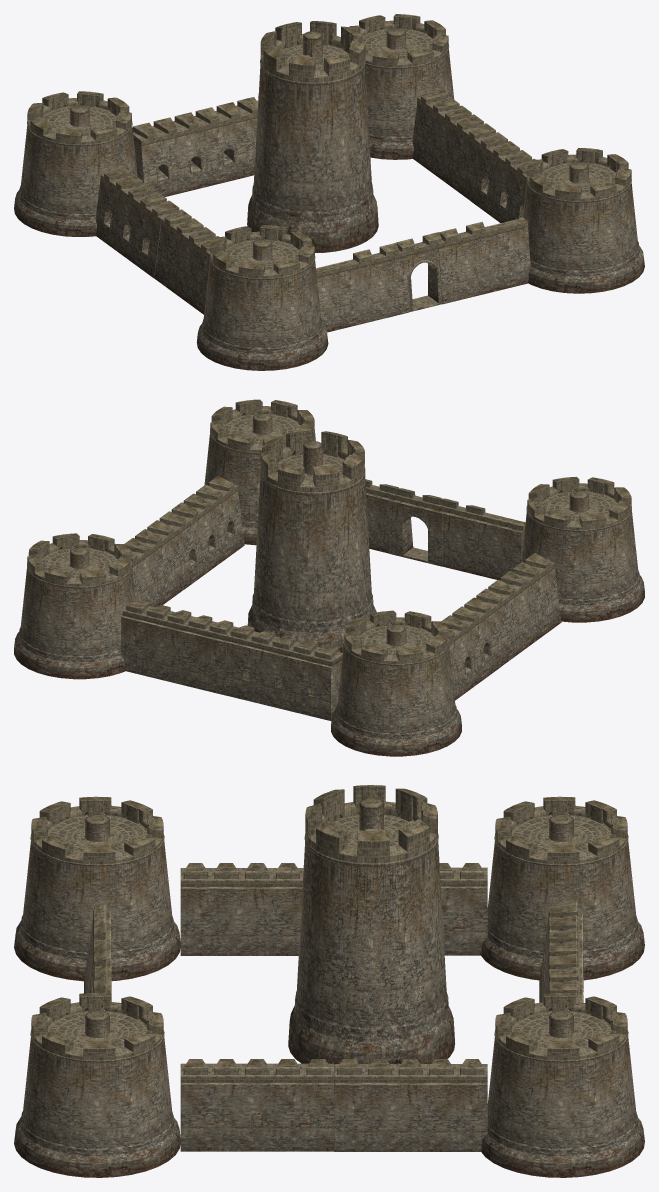
File: castle.glb
3 views of the same model, one above another, from view 1: azimuth 30°, elevation 25°; view 2: azimuth 150°, elevation 25°; view 3: azimuth 270°, elevation 25° (orthographic). The views are drawn at different scales.
Parts seen in each view (by area): view 1: modular_fort_01_tower_round.005, modular_fort_01_tower_round.001, modular_fort_01_tower_round.003, modular_fort_01_tower_round.002, modular_fort_01_tower_round.004, modular_fort_01_wall_thick_straight_02.003, modular_fort_01_wall_thick_straight_02.001, modular_fort_01_wall_thick_straight_01.001, modular_fort_01_wall_thick_straight_01.002, modular_fort_01_wall_thick_straight_02.002, modular_fort_01_wall_thin_straight_04.001, modular_fort_01_wall_thin_straight_04.002 (+4 smaller); view 2: modular_fort_01_tower_round.005, modular_fort_01_tower_round.002, modular_fort_01_tower_round.004, modular_fort_01_tower_round.001, modular_fort_01_wall_thick_straight_02.003, modular_fort_01_wall_thick_straight_01.003, modular_fort_01_tower_round.003, modular_fort_01_wall_thick_straight_02.002, modular_fort_01_wall_thick_straight_01.002, modular_fort_01_wall_thick_straight_02.001, modular_fort_01_wall_thick_straight_01.001, modular_fort_01_wall_thin_straight_03.001 (+3 smaller); view 3: modular_fort_01_tower_round.005, modular_fort_01_tower_round.003, modular_fort_01_tower_round.004, modular_fort_01_tower_round.001, modular_fort_01_tower_round.002, modular_fort_01_wall_thick_straight_02.002, modular_fort_01_wall_thick_straight_01.001, modular_fort_01_wall_thick_straight_01.002, modular_fort_01_wall_thick_straight_02.001, modular_fort_01_wall_thick_straight_02.003, modular_fort_01_wall_thick_straight_01.003, modular_fort_01_wall_thin_straight_04.001 (+2 smaller).
Boxes of the visible parts, x1=… form: modular_fort_01_tower_round.005: x1=247, y1=21, x2=378, y2=252; modular_fort_01_tower_round.001: x1=196, y1=225, x2=328, y2=370; modular_fort_01_tower_round.003: x1=523, y1=148, x2=644, y2=293; modular_fort_01_tower_round.002: x1=14, y1=91, x2=137, y2=236; modular_fort_01_tower_round.004: x1=349, y1=14, x2=454, y2=159; modular_fort_01_wall_thick_straight_02.003: x1=132, y1=102, x2=249, y2=196; modular_fort_01_wall_thick_straight_02.001: x1=95, y1=165, x2=179, y2=278; modular_fort_01_wall_thick_straight_01.001: x1=412, y1=88, x2=495, y2=200; modular_fort_01_wall_thick_straight_01.002: x1=154, y1=209, x2=218, y2=314; modular_fort_01_wall_thick_straight_02.002: x1=471, y1=132, x2=535, y2=222; modular_fort_01_wall_thin_straight_04.001: x1=348, y1=243, x2=409, y2=325; modular_fort_01_wall_thin_straight_04.002: x1=438, y1=221, x2=494, y2=304; modular_fort_01_tower_round.005: x1=247, y1=430, x2=376, y2=652; modular_fort_01_tower_round.002: x1=331, y1=610, x2=461, y2=756; modular_fort_01_tower_round.004: x1=14, y1=533, x2=135, y2=679; modular_fort_01_tower_round.001: x1=521, y1=476, x2=644, y2=622; modular_fort_01_wall_thick_straight_02.003: x1=226, y1=625, x2=342, y2=720; modular_fort_01_wall_thick_straight_01.003: x1=121, y1=600, x2=237, y2=695; modular_fort_01_tower_round.003: x1=204, y1=399, x2=315, y2=545; modular_fort_01_wall_thick_straight_02.002: x1=159, y1=476, x2=244, y2=589; modular_fort_01_wall_thick_straight_01.002: x1=476, y1=553, x2=561, y2=666; modular_fort_01_wall_thick_straight_02.001: x1=441, y1=597, x2=501, y2=700; modular_fort_01_wall_thick_straight_01.001: x1=124, y1=520, x2=183, y2=606; modular_fort_01_wall_thin_straight_03.001: x1=468, y1=513, x2=525, y2=579; modular_fort_01_tower_round.005: x1=288, y1=785, x2=455, y2=1063; modular_fort_01_tower_round.003: x1=14, y1=993, x2=180, y2=1177; modular_fort_01_tower_round.004: x1=481, y1=993, x2=644, y2=1177; modular_fort_01_tower_round.001: x1=14, y1=796, x2=180, y2=981; modular_fort_01_tower_round.002: x1=481, y1=796, x2=644, y2=980; modular_fort_01_wall_thick_straight_02.002: x1=180, y1=1059, x2=333, y2=1151; modular_fort_01_wall_thick_straight_01.001: x1=334, y1=1059, x2=487, y2=1151; modular_fort_01_wall_thick_straight_01.002: x1=180, y1=863, x2=303, y2=955; modular_fort_01_wall_thick_straight_02.001: x1=439, y1=863, x2=487, y2=955; modular_fort_01_wall_thick_straight_02.003: x1=539, y1=902, x2=583, y2=1002; modular_fort_01_wall_thick_straight_01.003: x1=547, y1=966, x2=583, y2=1002; modular_fort_01_wall_thin_straight_04.001: x1=85, y1=922, x2=110, y2=993.
Bounding box in the file's own units: 59.84 × 25.65 × 59.84.
Materials: 2 (2 with a texture image).
